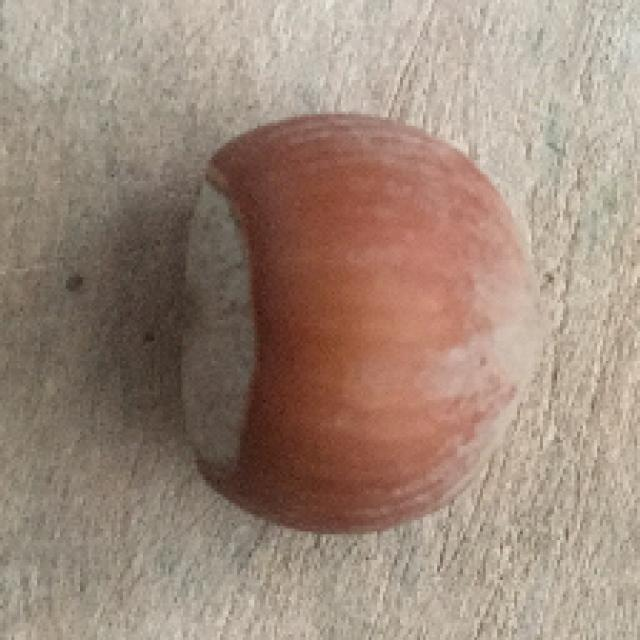qualityHazelnut: (163, 92, 558, 540)
